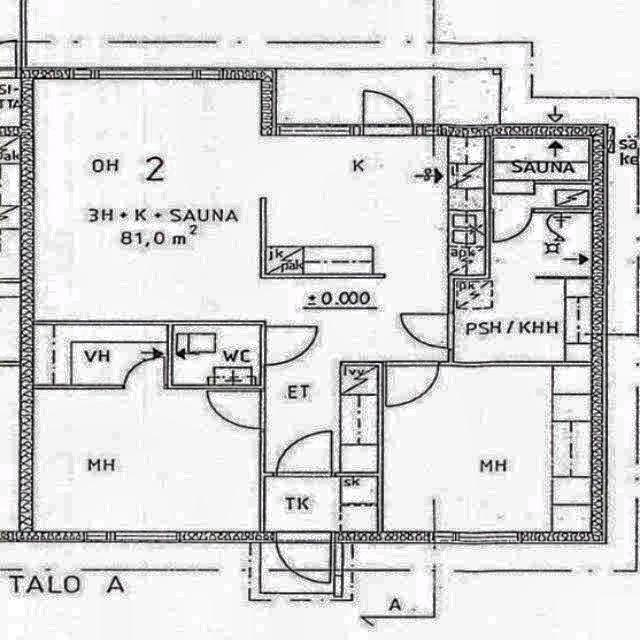room: (383, 367, 591, 532), (33, 389, 260, 531), (455, 137, 592, 362), (265, 477, 376, 531), (173, 325, 260, 385)
